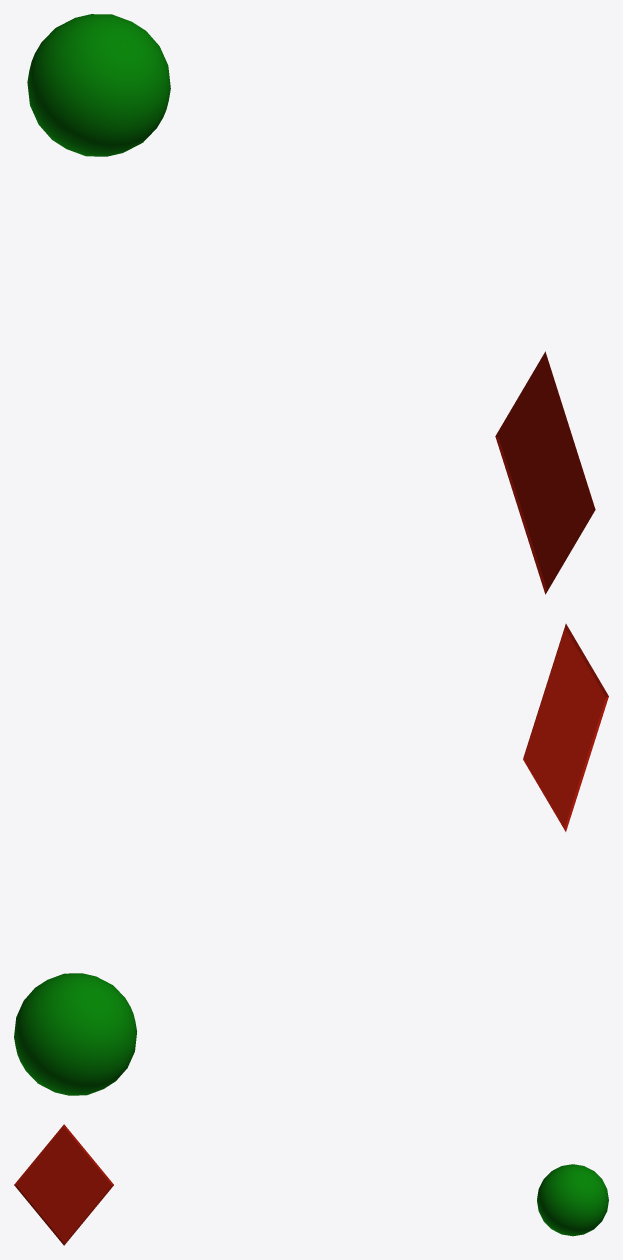
The model's file is Sphere_Anime_01.fbx.
The picture shows the model from 3 angles, top to bottom: view 1: azimuth 30°, elevation 25°; view 2: azimuth 150°, elevation 25°; view 3: azimuth 270°, elevation 25°; orthographic projection. The views are drawn at different scales.
Visible parts, largest first — view 1: Icosphere, Cube; view 2: Icosphere, Cube; view 3: Cube, Icosphere.
Part boxes in pixels (<box>): Icosphere: <box>27,14,170,156</box>; Cube: <box>495,351,595,594</box>; Icosphere: <box>14,973,136,1095</box>; Cube: <box>523,624,608,831</box>; Cube: <box>14,1124,113,1245</box>; Icosphere: <box>537,1164,608,1236</box>.
Size of the model in its own units: 2 by 3.73 by 16.49.
